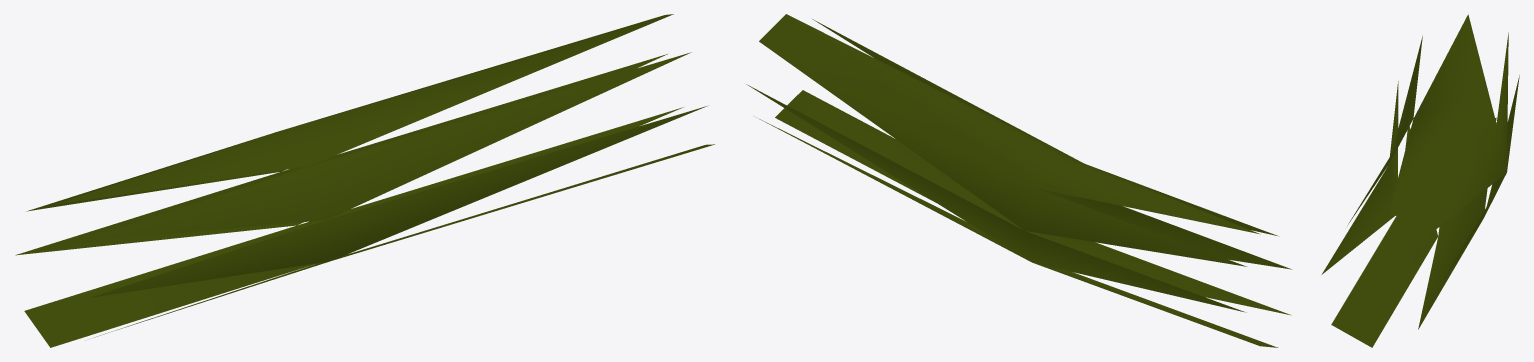
The model's file is planta-003.gltf.
3 views of the same model, side by side, from view 1: azimuth 30°, elevation 25°; view 2: azimuth 150°, elevation 25°; view 3: azimuth 270°, elevation 25° (orthographic). The views are drawn at different scales.
Visible parts, largest first — view 1: Anim_Planta-f.003; view 2: Anim_Planta-f.003; view 3: Anim_Planta-f.003.
Boxes of the visible parts, bbox=[...] form: Anim_Planta-f.003: bbox=[15, 14, 714, 347]; Anim_Planta-f.003: bbox=[746, 14, 1291, 347]; Anim_Planta-f.003: bbox=[1321, 14, 1519, 347].
Size of the model in its own units: 3.46 by 1.13 by 0.9914.
1 material, 1 textured.
